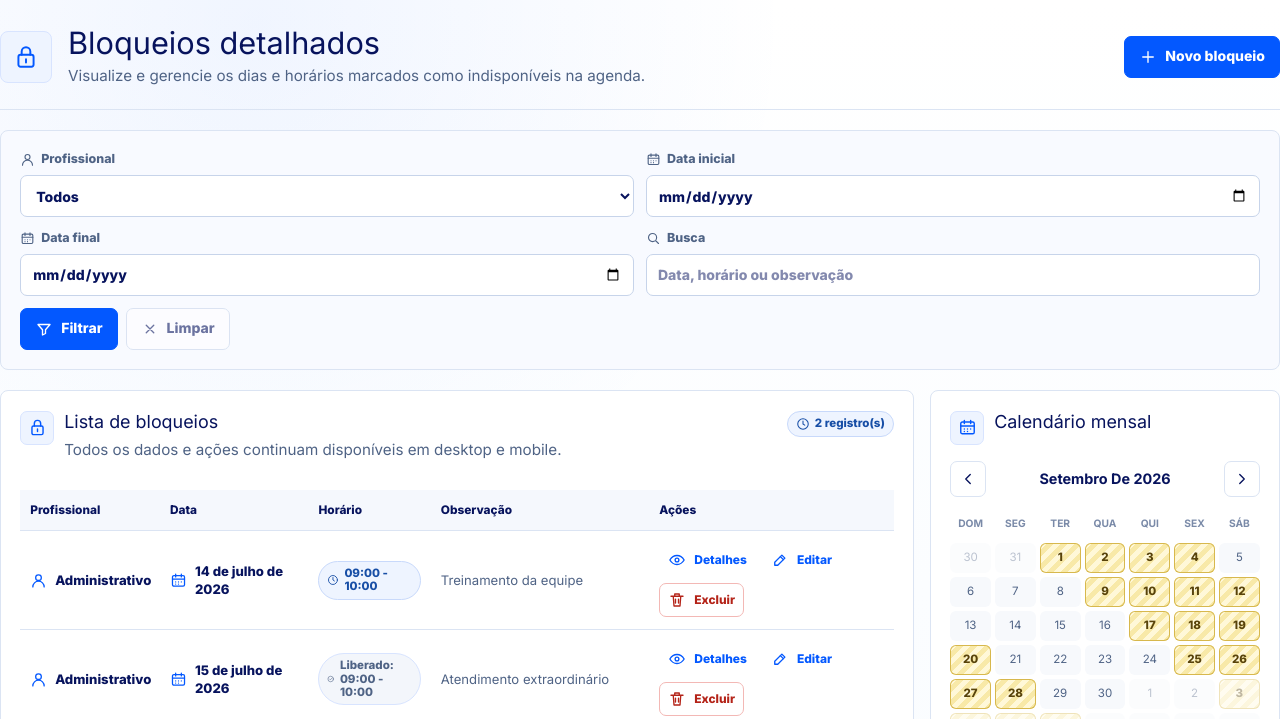
Test: Admin workspace redesigned panels › keeps every block field and action available, with working filters
Expected: the heading "Bloqueios detalhados" is shown, [68,24,380,61]
Expected: the text "Treinamento da equipe" is shown, [431,531,649,630]
Type "não existe" into the field with placeholder "Data, horário ou observação" at (953, 275), box [646,254,1260,296]
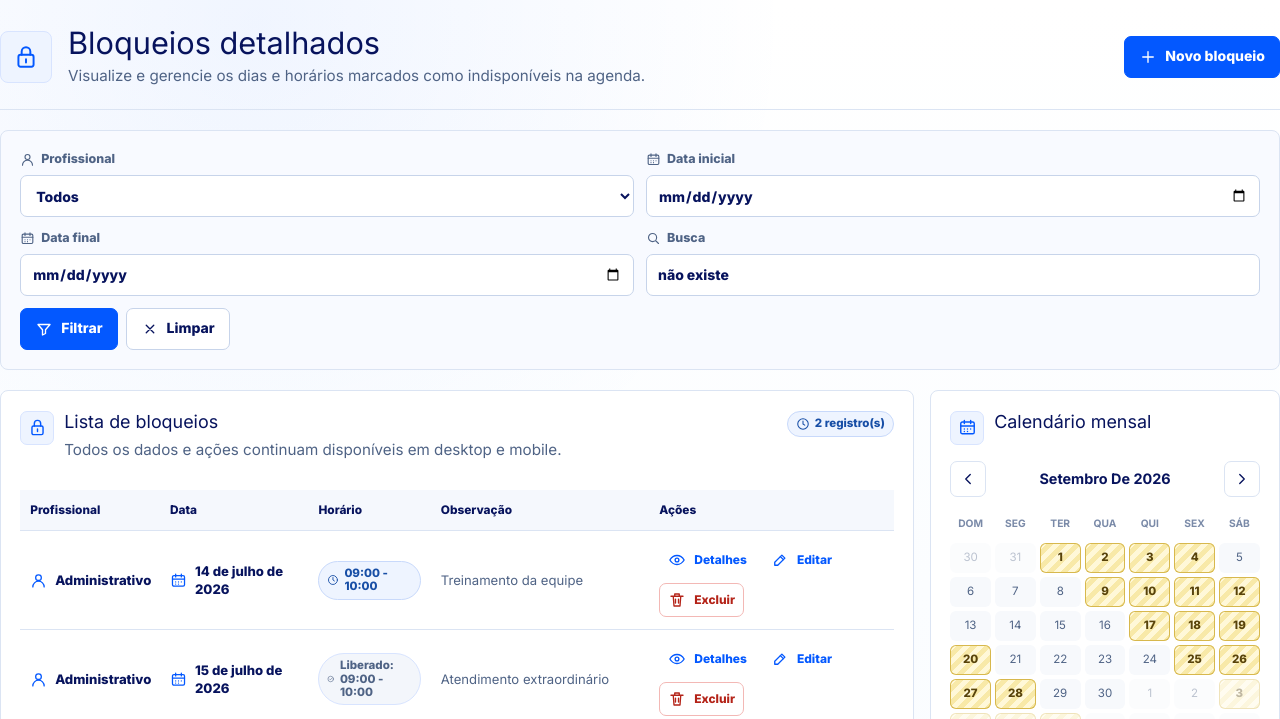
Click the button "Filtrar" at (69, 329), box [20,308,118,350]
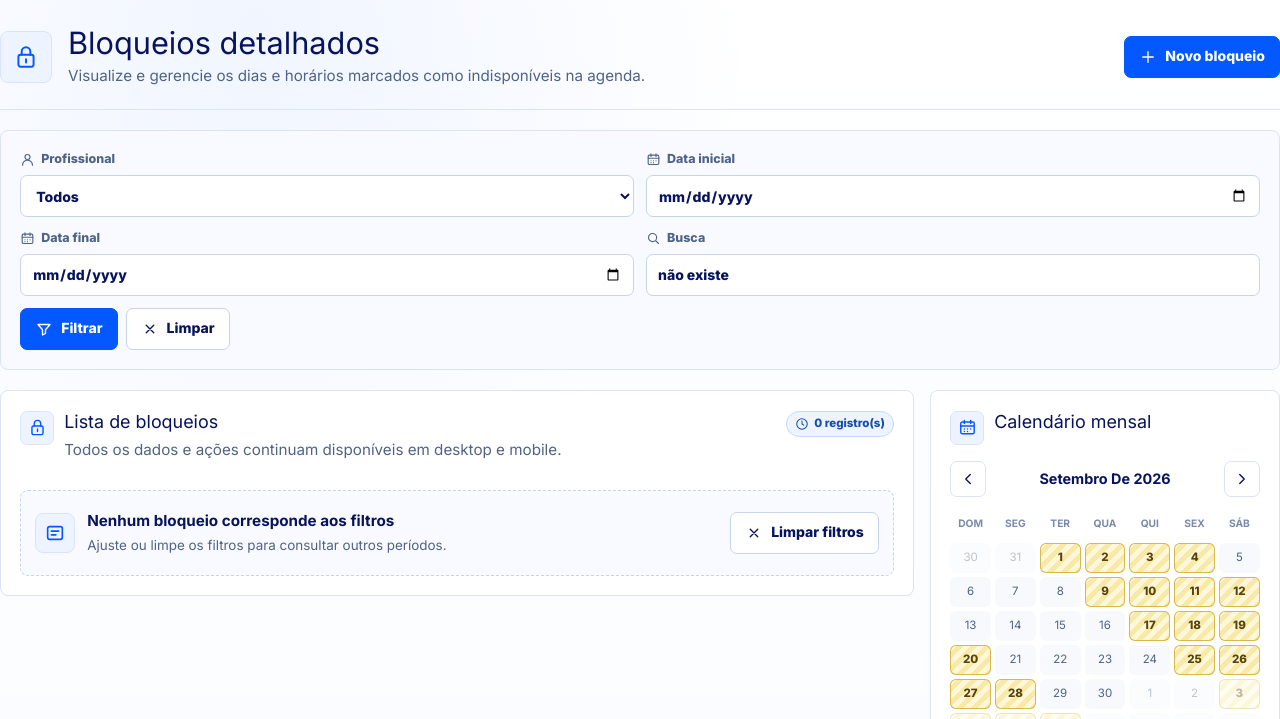
Expected: the text "Nenhum bloqueio corresponde aos filtros" is shown, [87,511,394,530]
Click the button "Limpar filtros" at (804, 533), box [730,512,879,554]
(page scrolled)
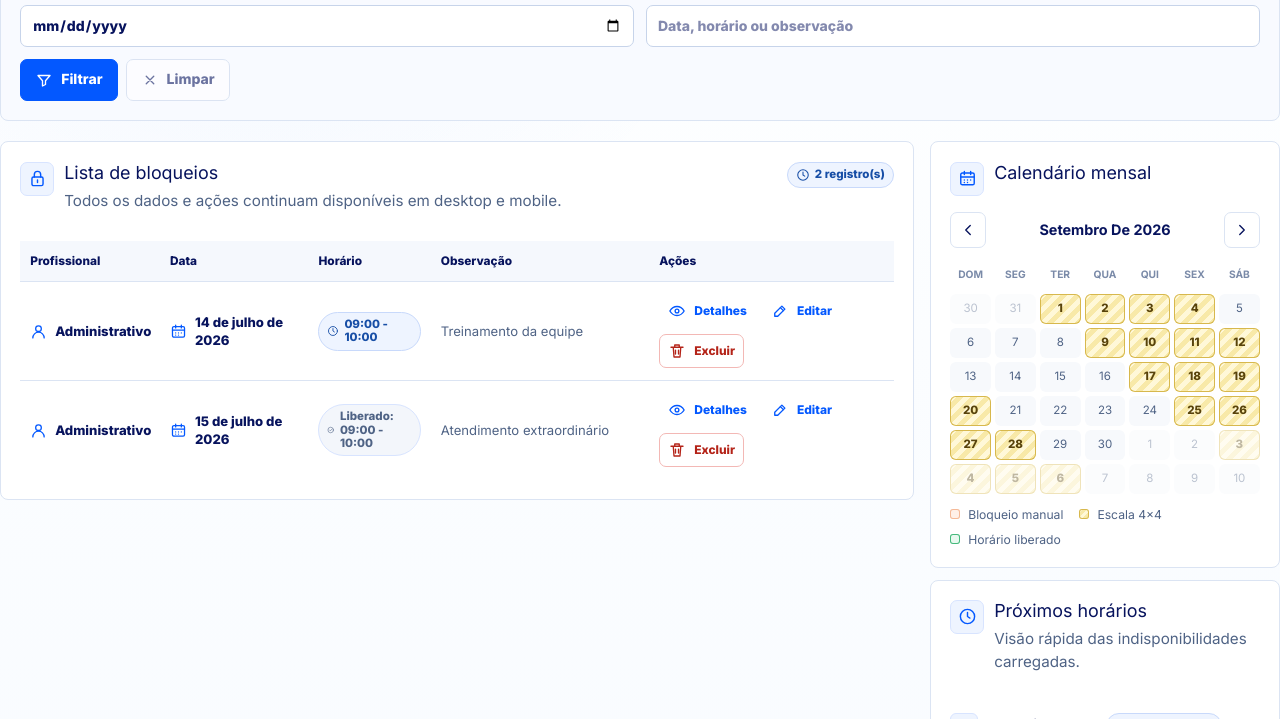
Expected: the table is shown, [20,241,894,479]
